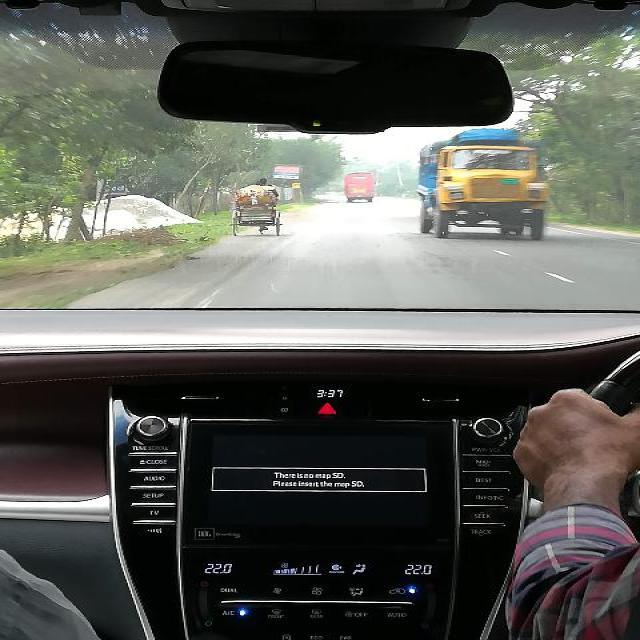bus: (343, 170, 372, 202)
rickshaw: (232, 185, 280, 237)
truck: (416, 128, 544, 238)
